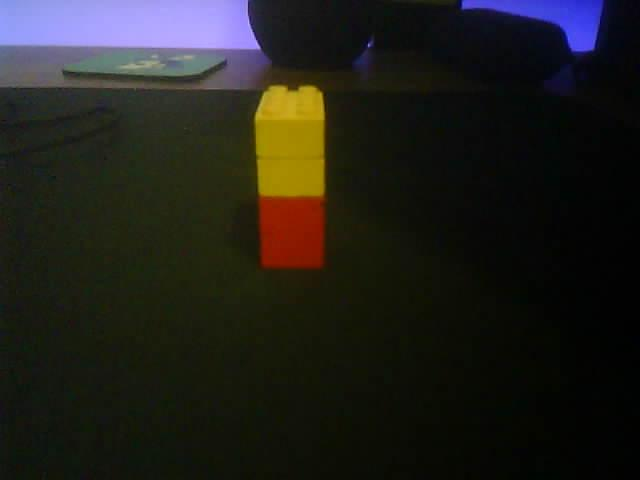lego: (253, 84, 326, 269)
